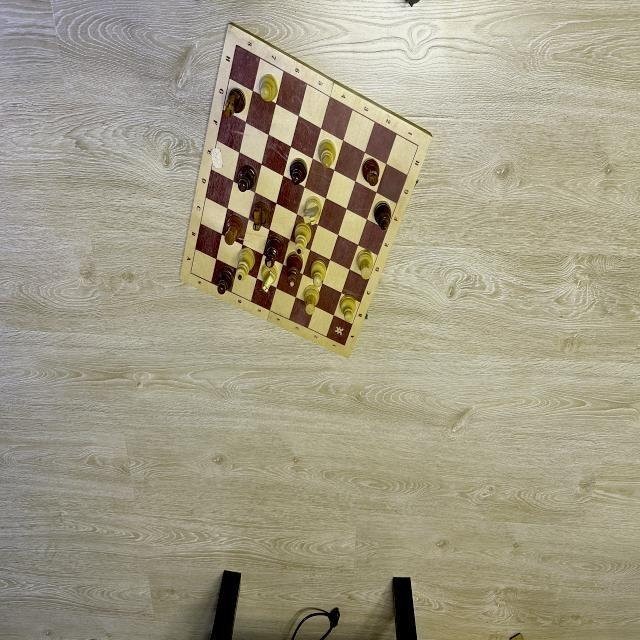chess-table-corners: (188, 270, 194, 276), (234, 42, 238, 48), (416, 143, 420, 149), (343, 344, 346, 348)
